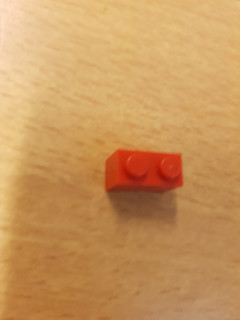1x2 red: (104, 147, 184, 195)
